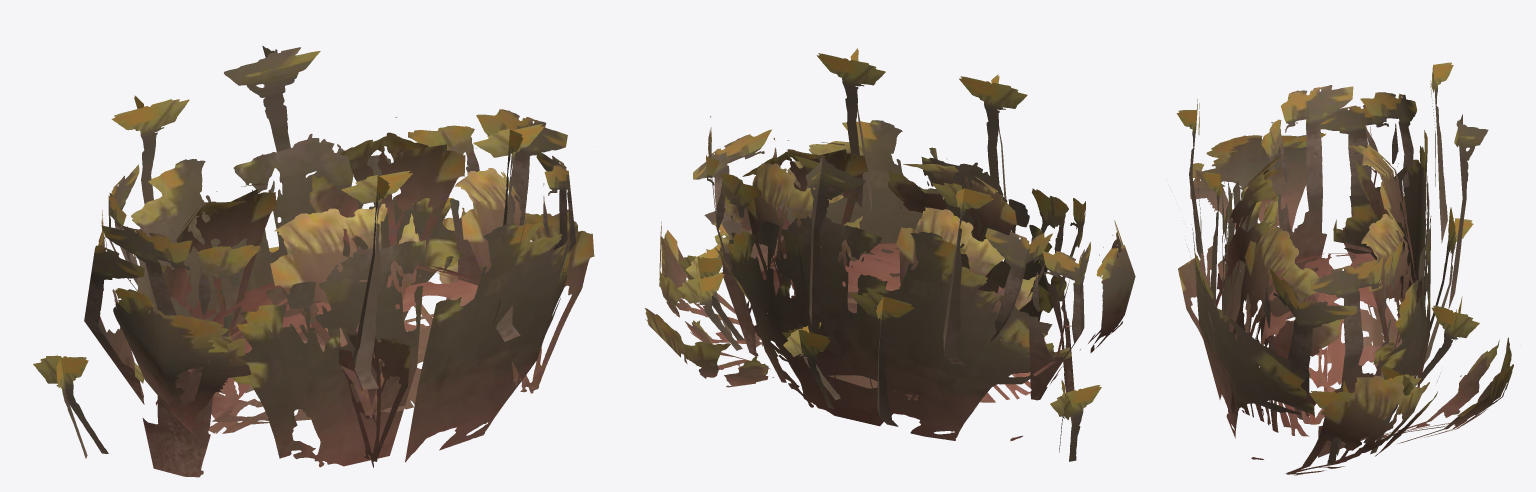
3 views of the same model, side by side, from view 1: azimuth 30°, elevation 25°; view 2: azimuth 150°, elevation 25°; view 3: azimuth 270°, elevation 25° (orthographic). The views are drawn at different scales.
Parts seen in each view (by area): view 1: body0_model0_lod0_mesh0; view 2: body0_model0_lod0_mesh0; view 3: body0_model0_lod0_mesh0.
Boxes of the visible parts, x1,y1,x2,y2 form: body0_model0_lod0_mesh0: [33, 46, 594, 477]; body0_model0_lod0_mesh0: [645, 48, 1135, 461]; body0_model0_lod0_mesh0: [1170, 62, 1513, 475].
Size of the model in its own units: 47.37 by 31.2 by 31.15.
Materials: 1 (1 with a texture image).
